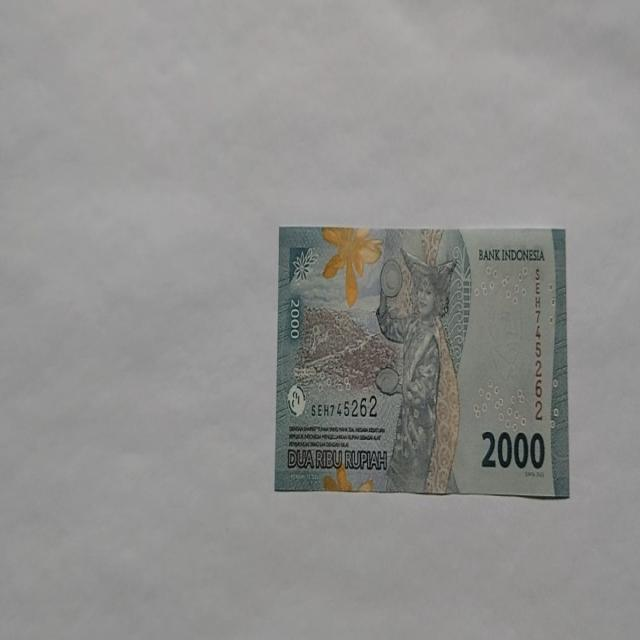dua ribu rupiah: (274, 224, 569, 498), (374, 246, 461, 494)
